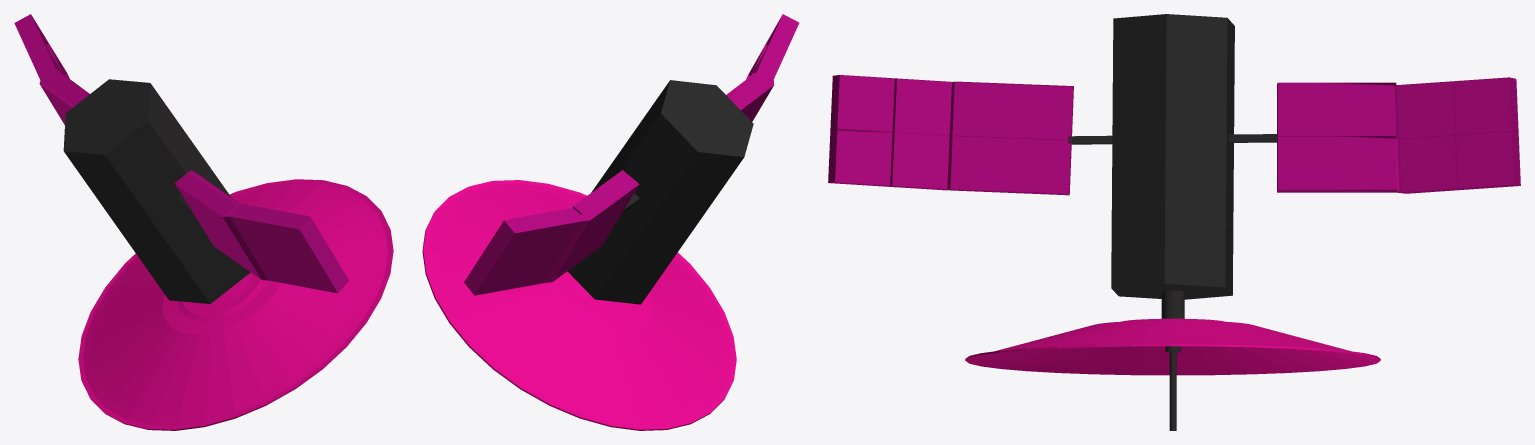
File: satelit.fbx
3 renders of one model, left to right at view 1: azimuth 30°, elevation 25°; view 2: azimuth 150°, elevation 25°; view 3: azimuth 270°, elevation 25°, orthographic. The views are drawn at different scales.
Parts seen in each view (by area): view 1: Cylinder.002, Cylinder.003, Cube.002, Cube.001; view 2: Cylinder.002, Cylinder.003, Cube.001, Cube.002; view 3: Cylinder.003, Cube.001, Cube.002, Cylinder.002, Cylinder.001, Cube.
Boxes of the visible parts, x1=… form: Cylinder.002: x1=78, y1=179, x2=393, y2=430; Cylinder.003: x1=63, y1=79, x2=250, y2=303; Cube.002: x1=175, y1=170, x2=348, y2=293; Cube.001: x1=14, y1=14, x2=89, y2=124; Cylinder.002: x1=422, y1=180, x2=736, y2=430; Cylinder.003: x1=567, y1=80, x2=753, y2=304; Cube.001: x1=464, y1=170, x2=639, y2=295; Cube.002: x1=726, y1=14, x2=799, y2=121; Cylinder.003: x1=1111, y1=14, x2=1234, y2=299; Cube.001: x1=1277, y1=77, x2=1520, y2=193; Cube.002: x1=828, y1=75, x2=1073, y2=195; Cylinder.002: x1=965, y1=318, x2=1380, y2=375; Cylinder.001: x1=1161, y1=290, x2=1184, y2=430; Cube: x1=1068, y1=134, x2=1276, y2=144.
Size of the model in its own units: 829 by 850 by 1381.
